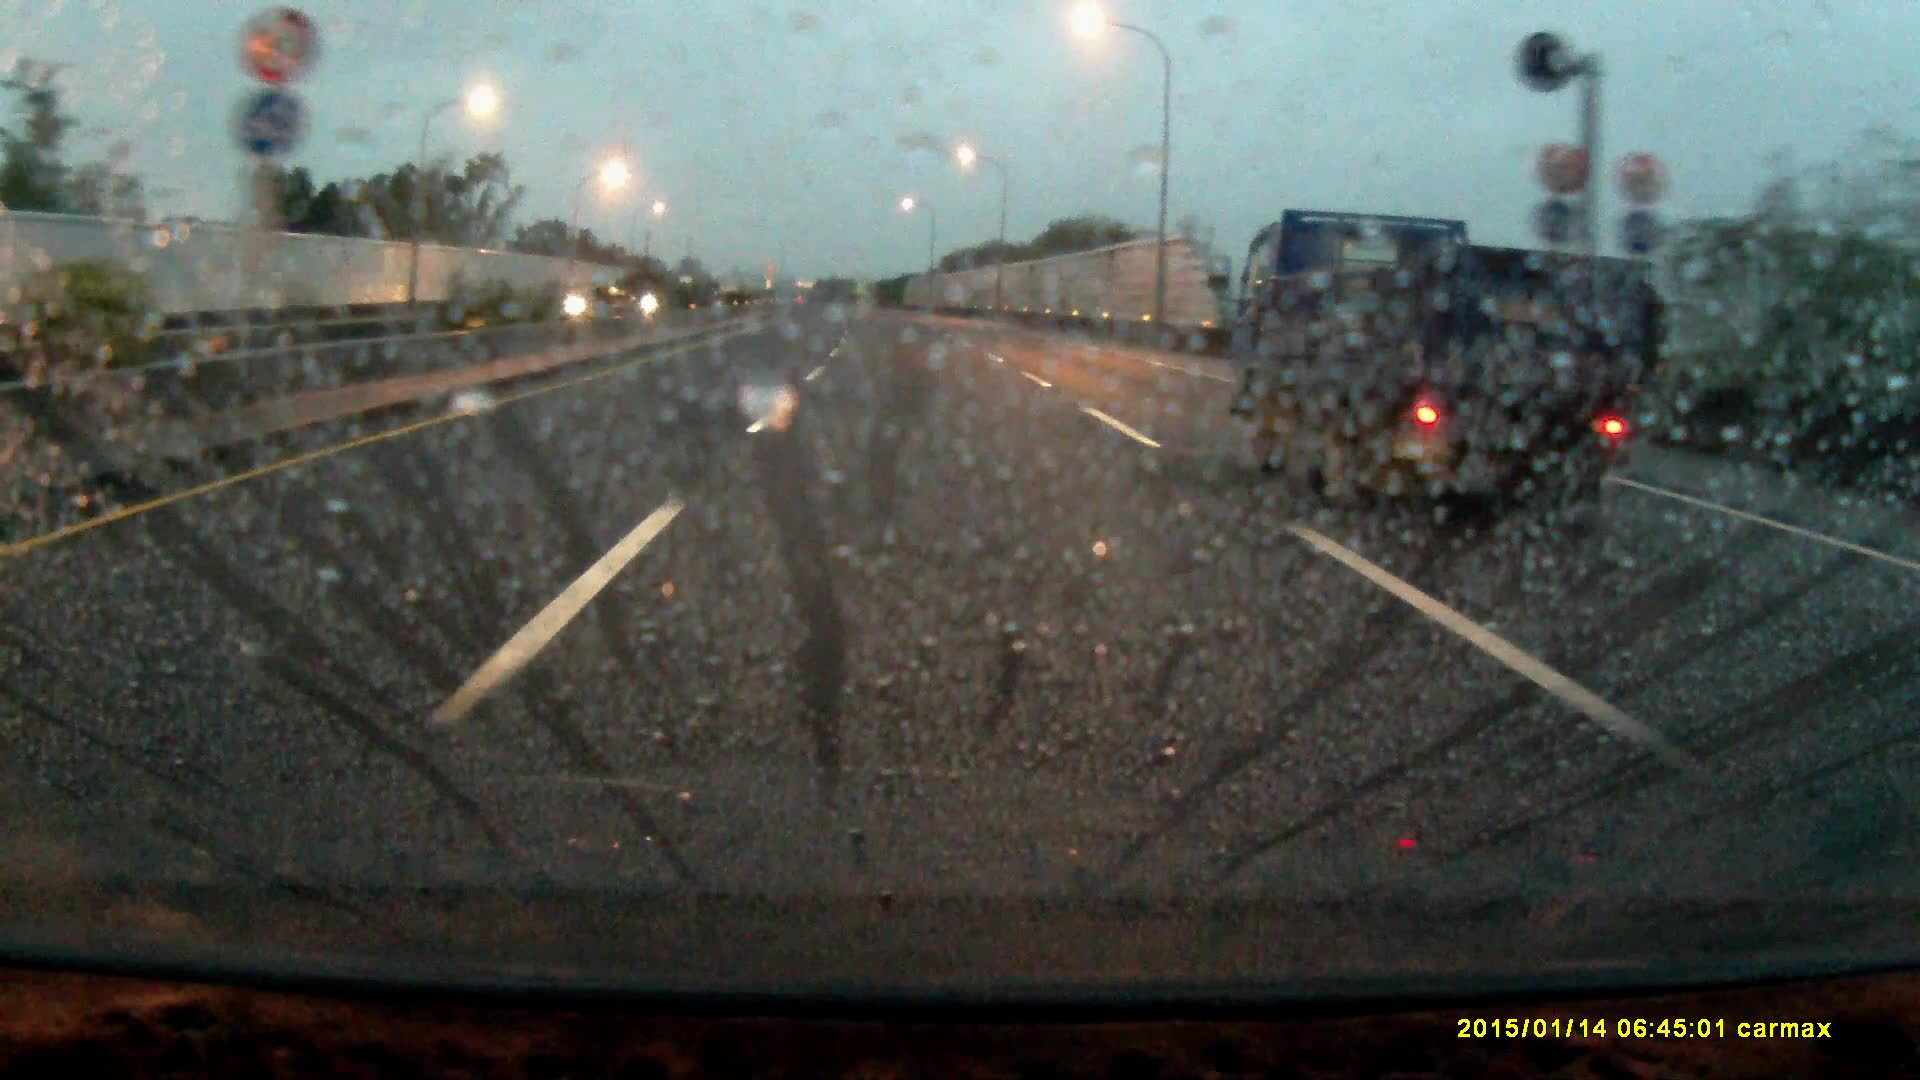vehicle: (1224, 203, 1671, 537)
